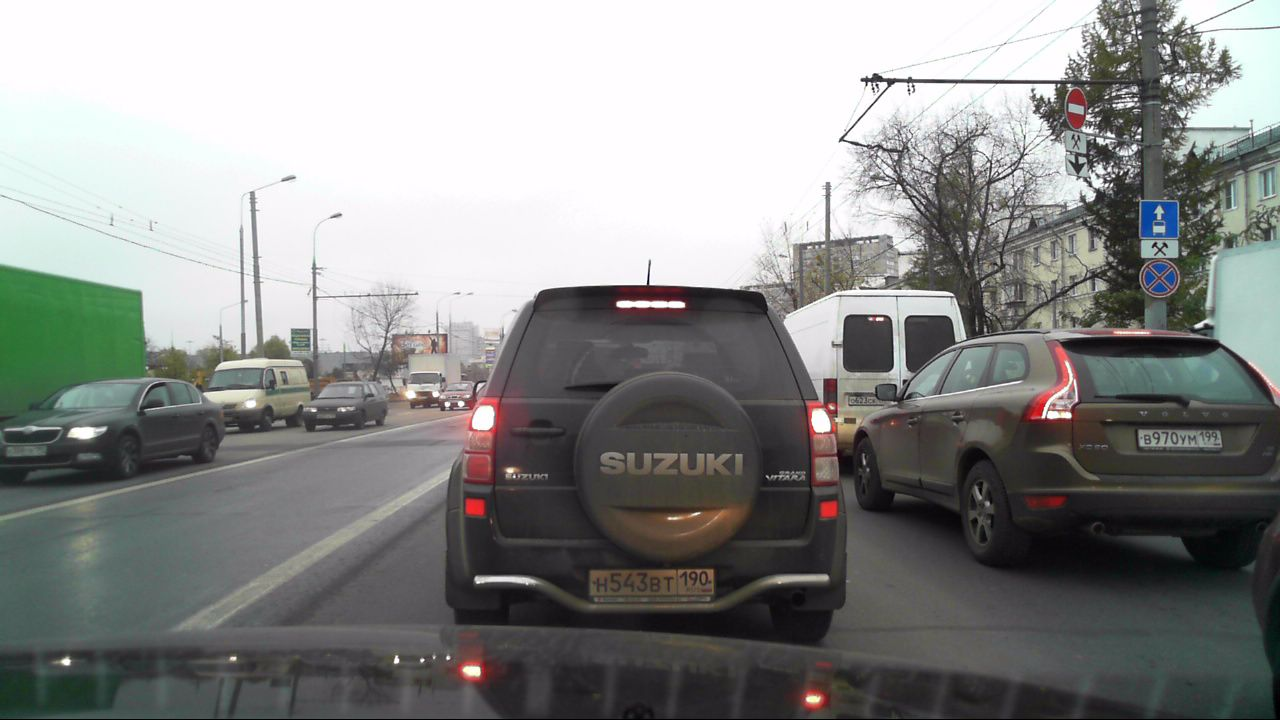No Parking: (1139, 260, 1181, 300)
